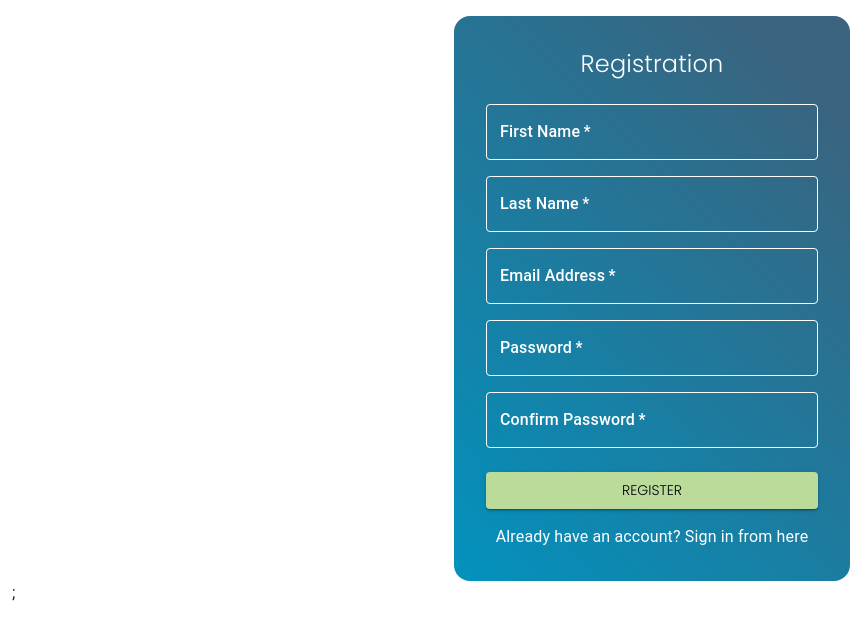
Test: shows error message If last name not entered
The width and height of the screenshot is (867, 642).
Type "test-name" into the field labelled "First Name *" at (652, 132), box [486, 104, 818, 160]
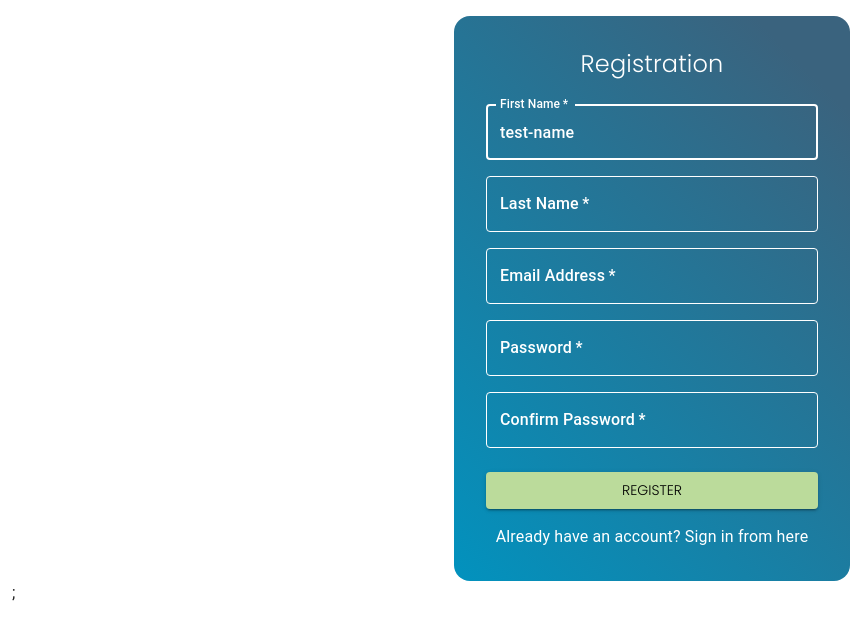
Type "test@gmail.com" into the field labelled "Email Address *" at (652, 276), box [486, 248, 818, 304]
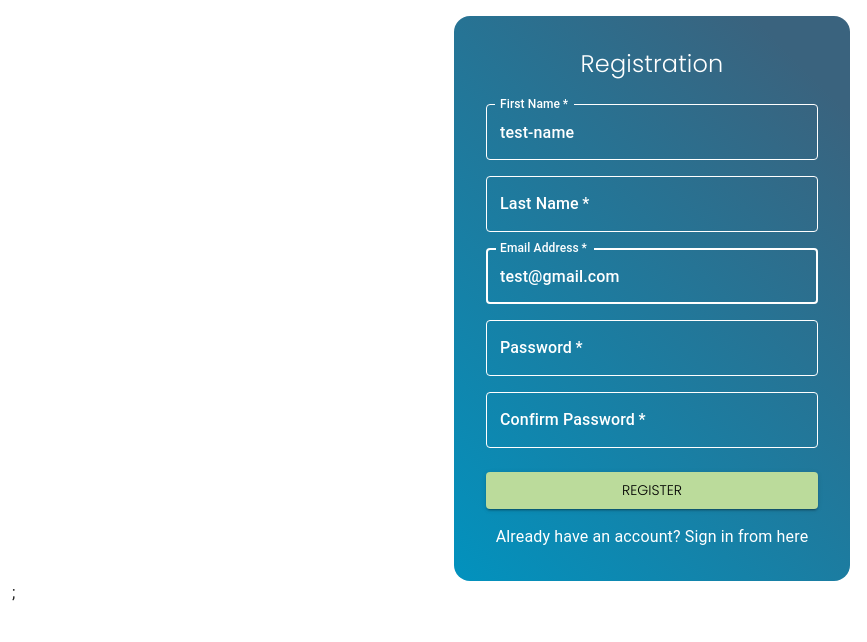
Type "test1234" into the password field with test id "password" at (652, 348), box [486, 320, 818, 376]
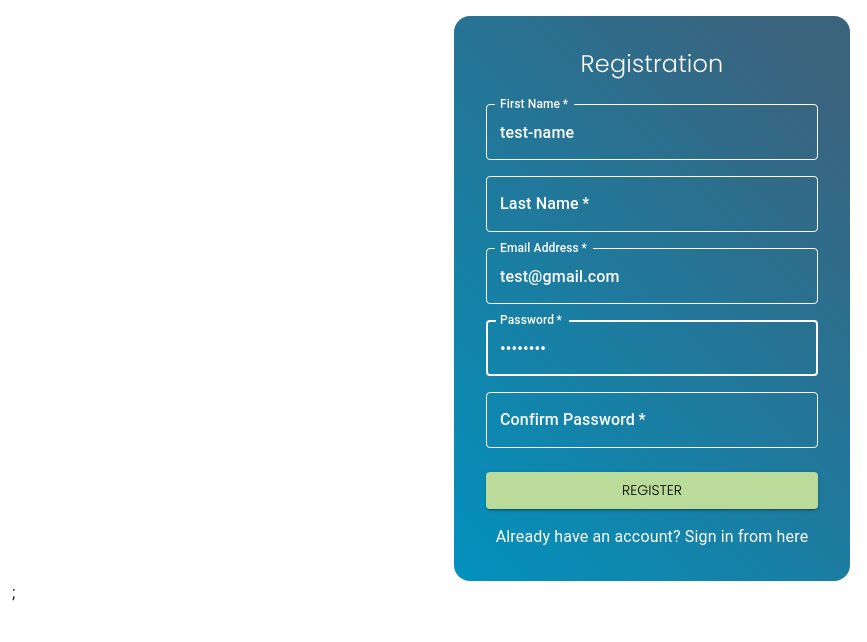
Type "test1234" into the password field with test id "re_password" at (652, 420), box [486, 392, 818, 448]
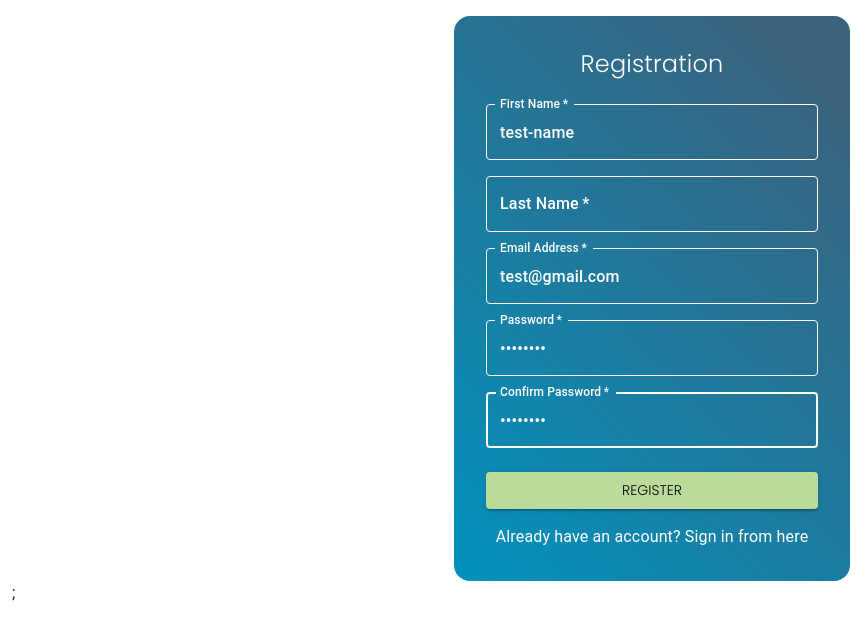
Click the button "Register" at (652, 490), box [486, 472, 818, 508]
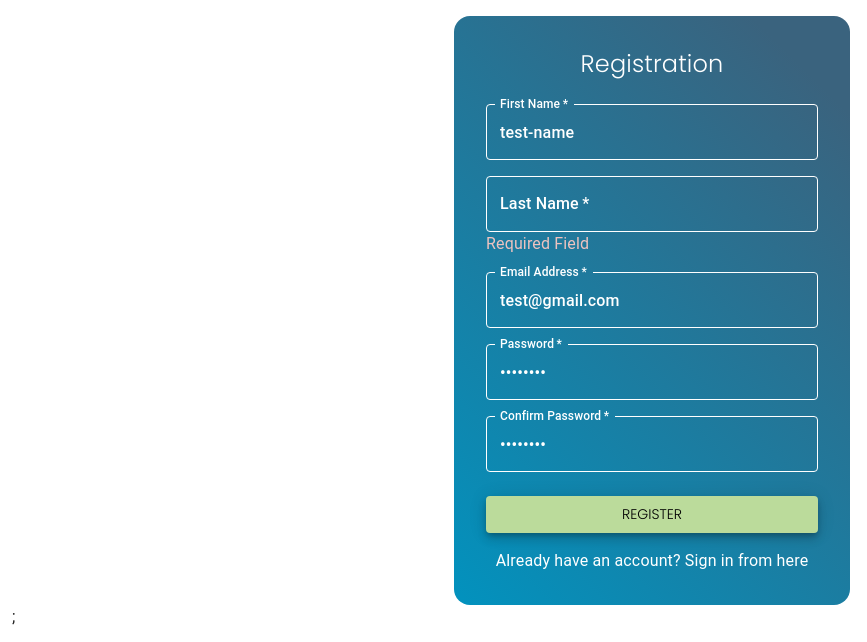
Now the text with test id "err-lastname" reads "Required Field", box [486, 234, 589, 253]
